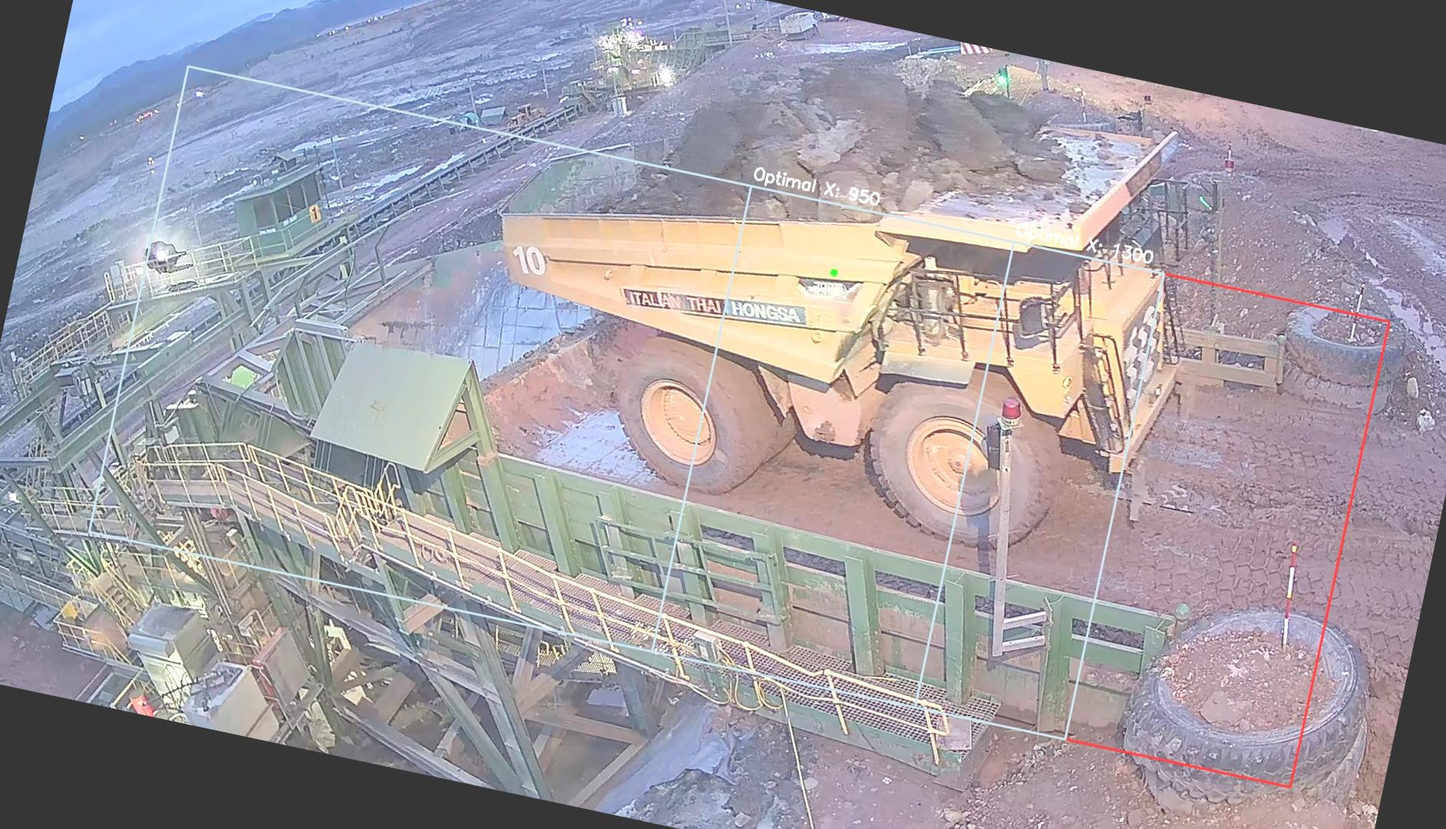company: (609, 268, 830, 348)
full_load: (638, 16, 939, 261)
mining_truck: (439, 0, 1267, 590)
tail_number: (499, 234, 561, 291)
truck_size: (782, 262, 867, 311)
